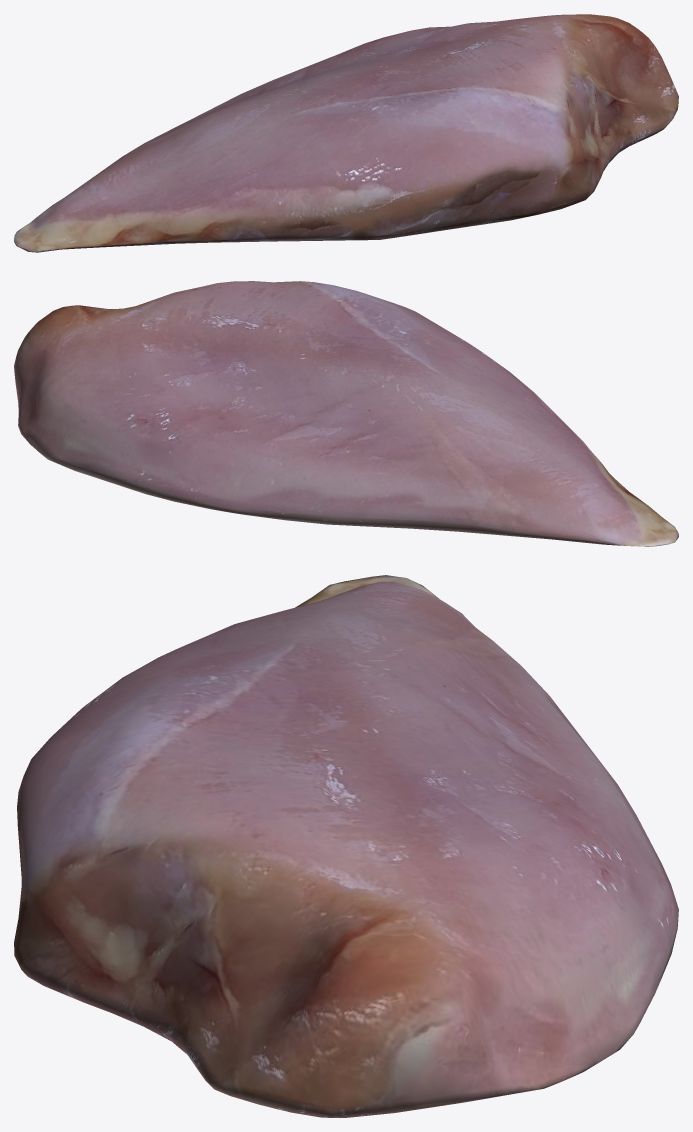
The model's file is chicken-raw.glb.
The picture shows the model from 3 angles, top to bottom: view 1: azimuth 30°, elevation 25°; view 2: azimuth 150°, elevation 25°; view 3: azimuth 270°, elevation 25°; orthographic projection. The views are drawn at different scales.
Parts seen in each view (by area): view 1: Plane.001_0; view 2: Plane.001_0; view 3: Plane.001_0.
Boxes of the visible parts, x1,y1,x2,y2 form: Plane.001_0: (14,14,678,252); Plane.001_0: (14,281,678,546); Plane.001_0: (14,575,678,1117).
Bounding box in the file's own units: 0.2249 × 0.0439 × 0.1148.
Materials: 1 (1 with a texture image).
